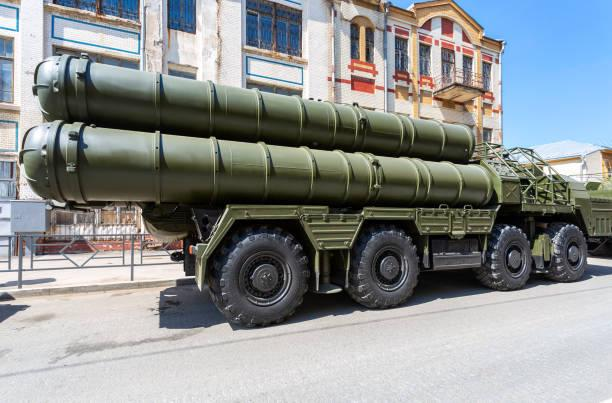MIL_SAM_TEL: (16, 53, 612, 334)
